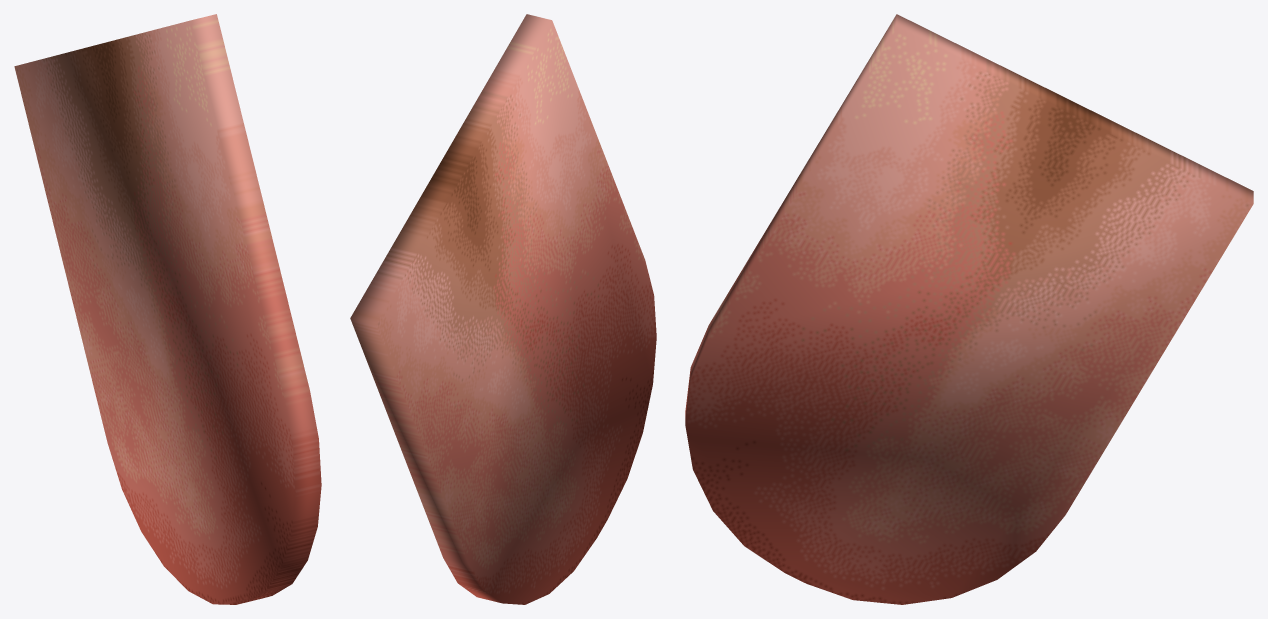
File: Tongue_side.glb
3 views of the same model, side by side, from view 1: azimuth 30°, elevation 25°; view 2: azimuth 150°, elevation 25°; view 3: azimuth 270°, elevation 25° (orthographic).
Parts seen in each view (by area): view 1: Tongue side; view 2: Tongue side; view 3: Tongue side.
Part boxes in pixels (box(x1,y1,x2,y2)): Tongue side: box(14, 14, 321, 604); Tongue side: box(350, 14, 656, 604); Tongue side: box(685, 14, 1253, 604).
Bounding box in the file's own units: 0.00634 × 0.1351 × 0.1204.
Materials: 1 (1 with a texture image).
